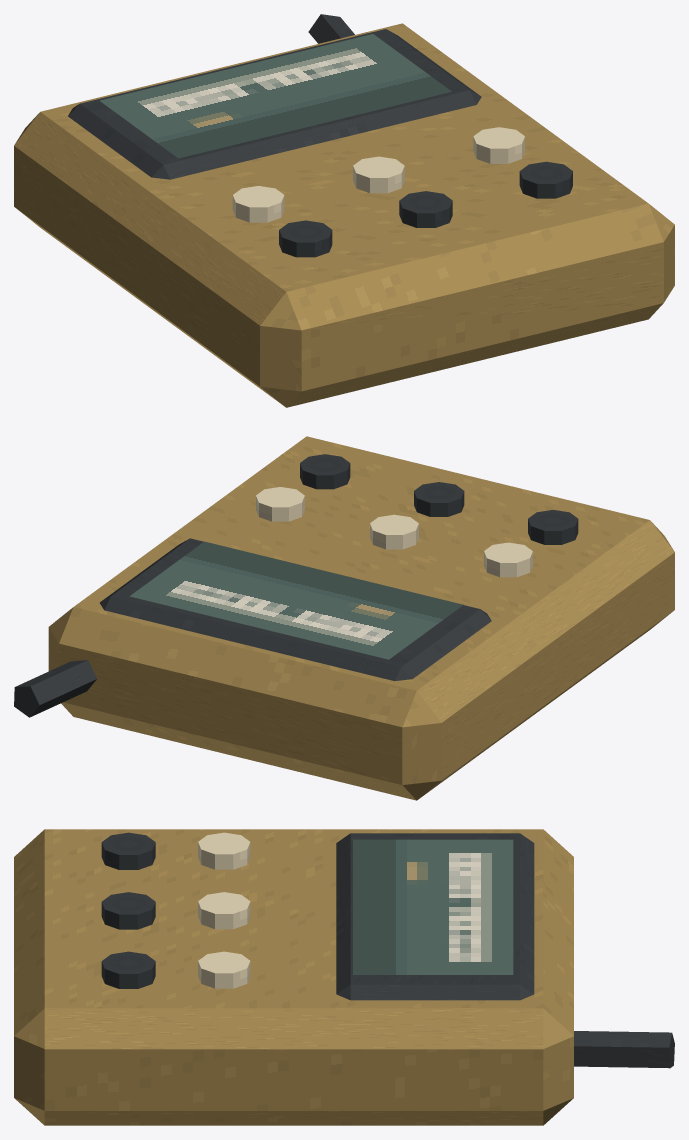
Rendered from remotevehcontrol.glb.
3 renders of one model, top to bottom at view 1: azimuth 30°, elevation 25°; view 2: azimuth 150°, elevation 25°; view 3: azimuth 270°, elevation 25°, orthographic. The views are drawn at different scales.
Visible parts, largest first — view 1: block_handheld electronics housing, block_display and markings, block_screen recess, block_second control (×3), block_rubber function button (×3), block_short antenna 0; view 2: block_handheld electronics housing, block_display and markings, block_screen recess, block_second control (×3), block_rubber function button (×3), block_short antenna 0; view 3: block_handheld electronics housing, block_display and markings, block_screen recess, block_second control (×3), block_rubber function button (×3), block_short antenna 0.
Boxes of the visible parts, bbox=[...] form: block_handheld electronics housing: bbox=[14, 23, 674, 407]; block_display and markings: bbox=[99, 34, 451, 158]; block_screen recess: bbox=[68, 29, 481, 179]; block_second control (×3): bbox=[279, 161, 572, 257]; block_rubber function button (×3): bbox=[232, 127, 524, 222]; block_short antenna 0: bbox=[308, 14, 354, 43]; block_handheld electronics housing: bbox=[48, 436, 674, 800]; block_display and markings: bbox=[129, 541, 463, 659]; block_screen recess: bbox=[99, 538, 491, 680]; block_second control (×3): bbox=[300, 454, 578, 544]; block_rubber function button (×3): bbox=[256, 487, 532, 577]; block_short antenna 0: bbox=[14, 660, 96, 717]; block_handheld electronics housing: bbox=[14, 829, 573, 1125]; block_display and markings: bbox=[353, 839, 513, 974]; block_screen recess: bbox=[336, 833, 534, 1000]; block_second control (×3): bbox=[101, 832, 155, 988]; block_rubber function button (×3): bbox=[198, 832, 250, 988]; block_short antenna 0: bbox=[574, 1031, 674, 1068].
Size of the model in its own units: 0.1402 by 0.0424 by 0.191.
Materials: 1 (1 with a texture image).
